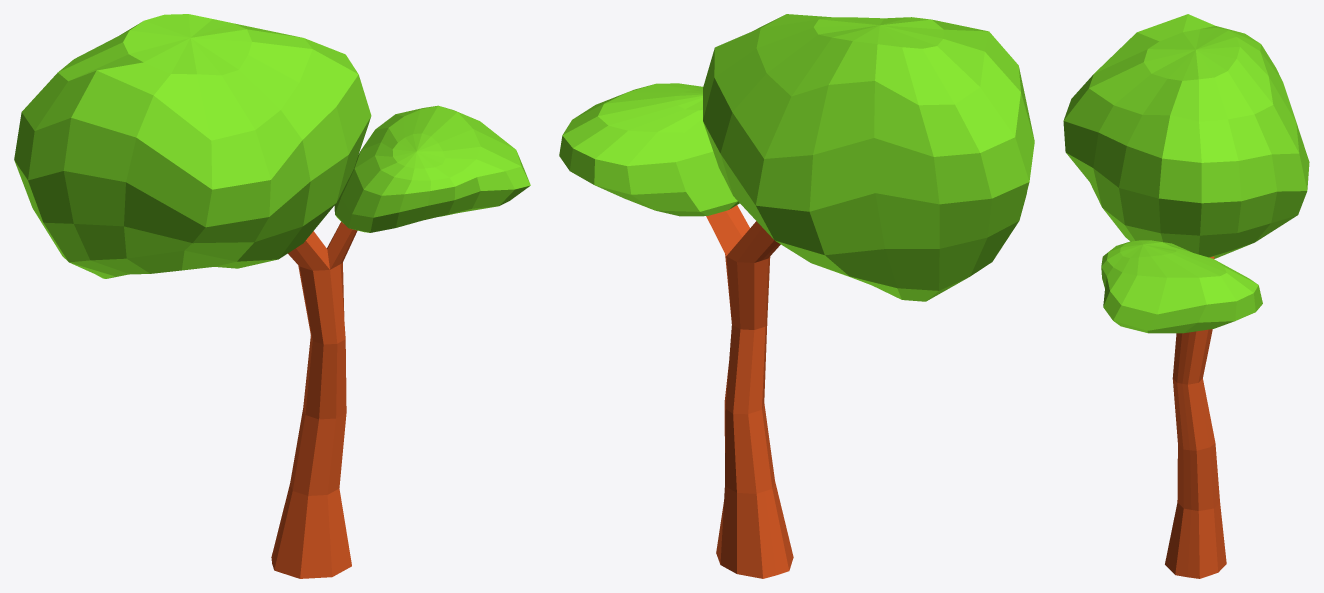
The model's file is Laubbaum_02_unsymetric_03_rdy.fbx.
3 views of the same model, side by side, from view 1: azimuth 30°, elevation 25°; view 2: azimuth 150°, elevation 25°; view 3: azimuth 270°, elevation 25° (orthographic). The views are drawn at different scales.
Parts seen in each view (by area): view 1: Nadelbaum_02_unsymetric_03; view 2: Nadelbaum_02_unsymetric_03; view 3: Nadelbaum_02_unsymetric_03.
Part boxes in pixels (box(x1,y1,x2,y2)): Nadelbaum_02_unsymetric_03: box(14, 14, 530, 578); Nadelbaum_02_unsymetric_03: box(559, 14, 1034, 578); Nadelbaum_02_unsymetric_03: box(1063, 14, 1309, 578).
Size of the model in its own units: 1549 by 1802 by 858.
